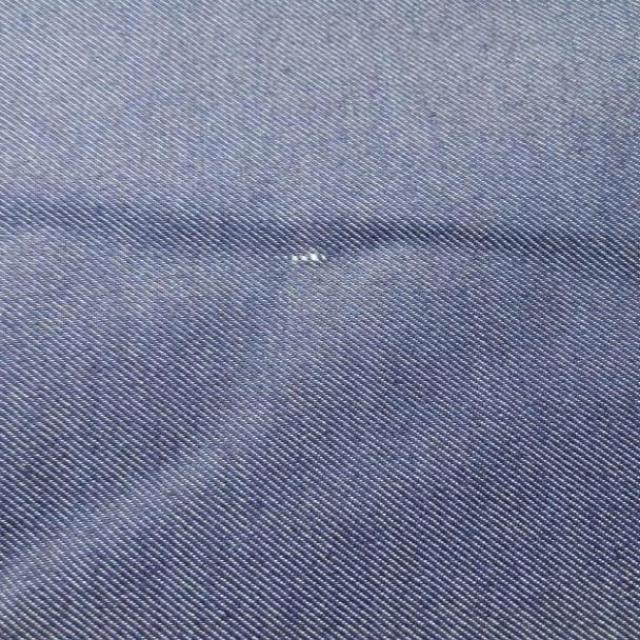Knot: (285, 251, 327, 265)
